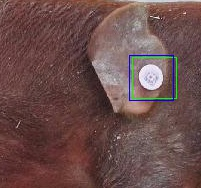text: (132, 57, 176, 98)
